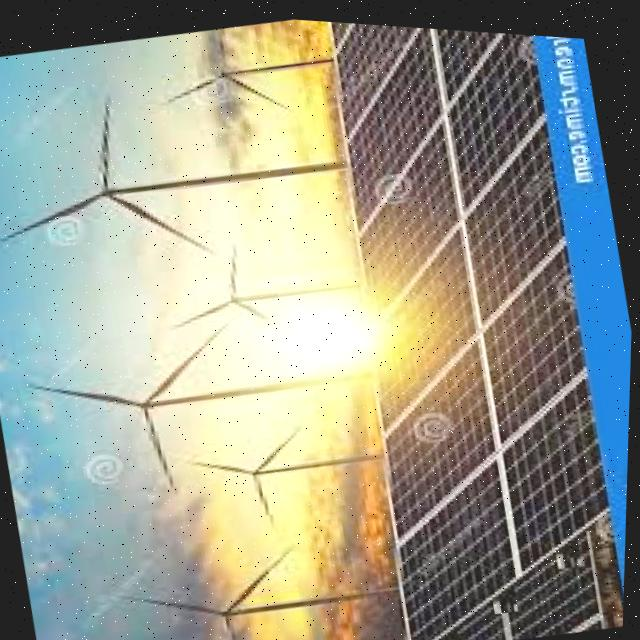solid-blade: (0, 186, 110, 242), (111, 193, 215, 250)
wind-turbine: (30, 315, 373, 483), (0, 98, 347, 250), (196, 424, 386, 518), (174, 245, 362, 325)
